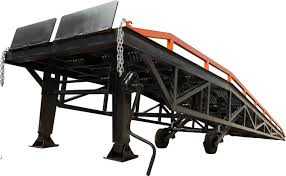Yard Ramp: (5, 1, 286, 164)
